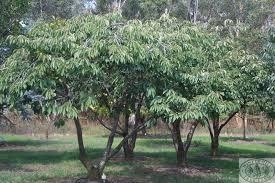tree: (4, 14, 184, 183), (126, 24, 234, 167)
